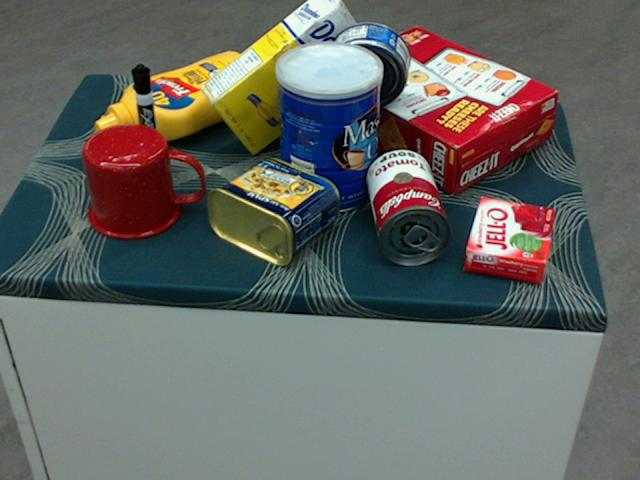cracker_box: (316, 25, 555, 195)
gelatin_box: (464, 196, 552, 281)
large_marker: (129, 64, 162, 172)
master_chef_can: (274, 42, 381, 215)
mug: (82, 123, 203, 240)
mustard_bottle: (93, 51, 265, 142)
potted_meat_can: (204, 157, 338, 265)
sugar_box: (196, 0, 376, 156)
tomato_soup_can: (367, 148, 449, 264)
tuna_fish_can: (326, 20, 410, 105)
